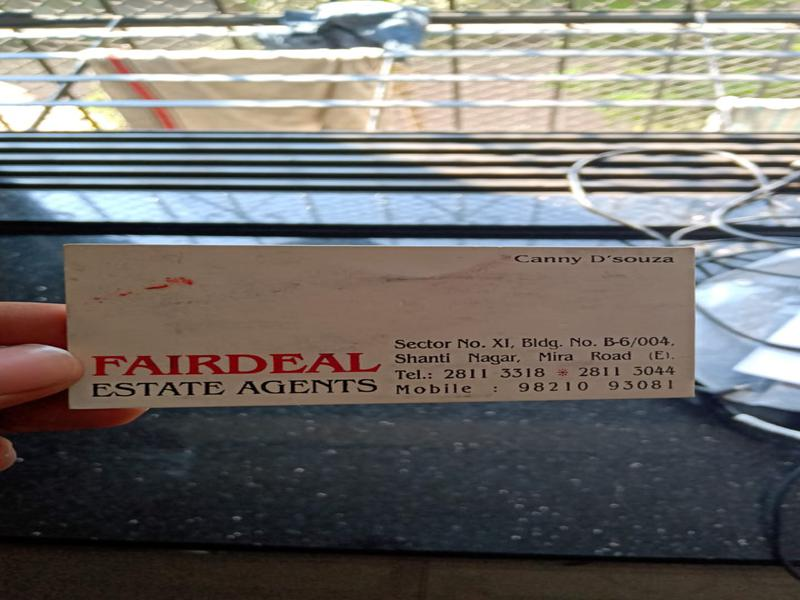card: (63, 243, 700, 401)
